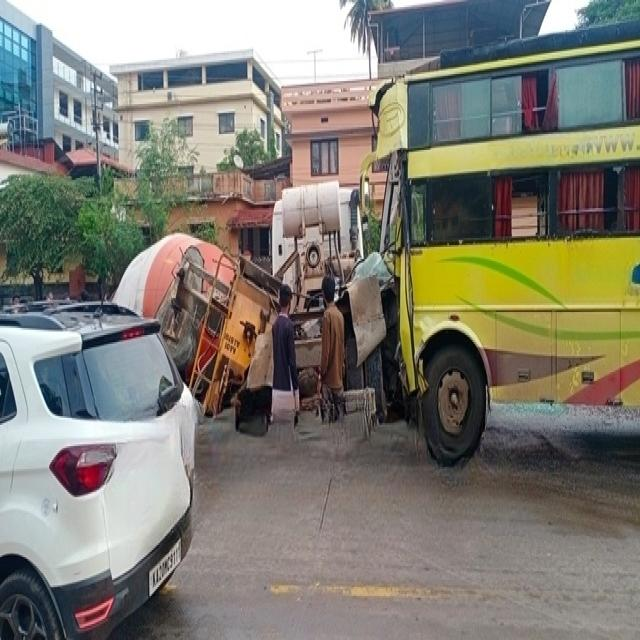accident: (340, 22, 640, 464)
